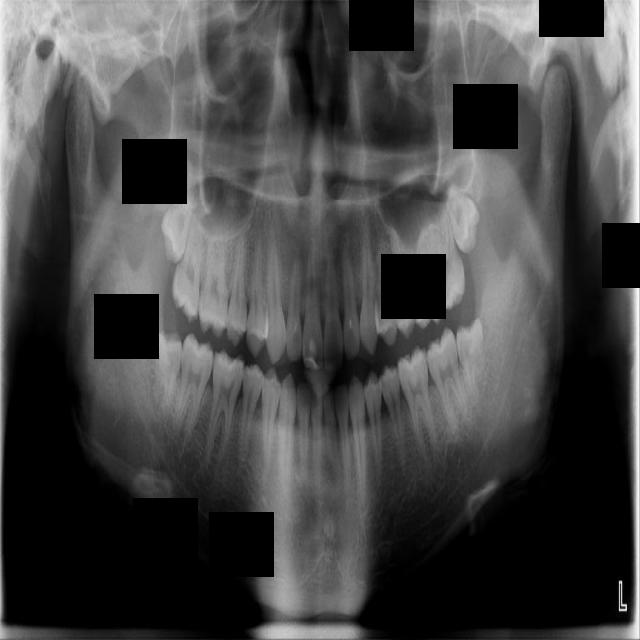3M ESPE Implant: (153, 189, 198, 267)
52: (302, 321, 323, 371), (342, 311, 362, 361)
BioHorizons Implant: (431, 201, 469, 310)
BioLife Implant: (442, 180, 489, 256)
Biomet 3i Implant: (455, 317, 490, 406)
Blue Sky Bio Implant: (420, 325, 471, 428)
Caries: (170, 203, 206, 325)
Implant: (173, 332, 216, 440)
Keystone Dental Implant: (151, 330, 184, 417)
